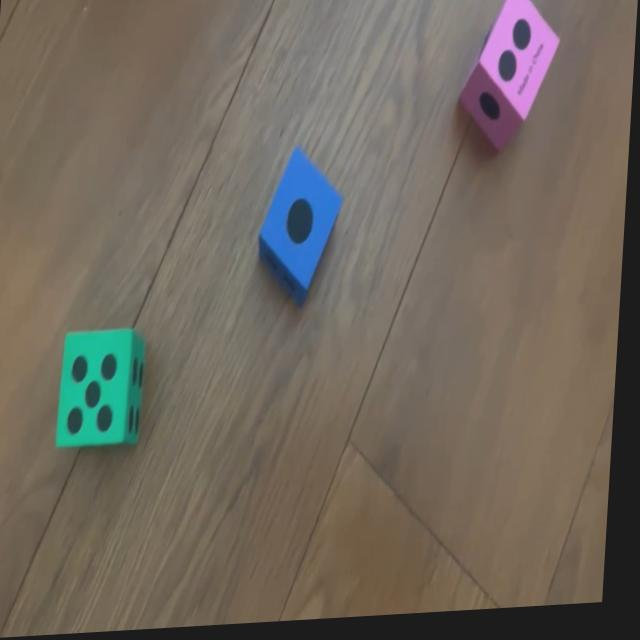blue_block: (259, 146, 346, 303)
